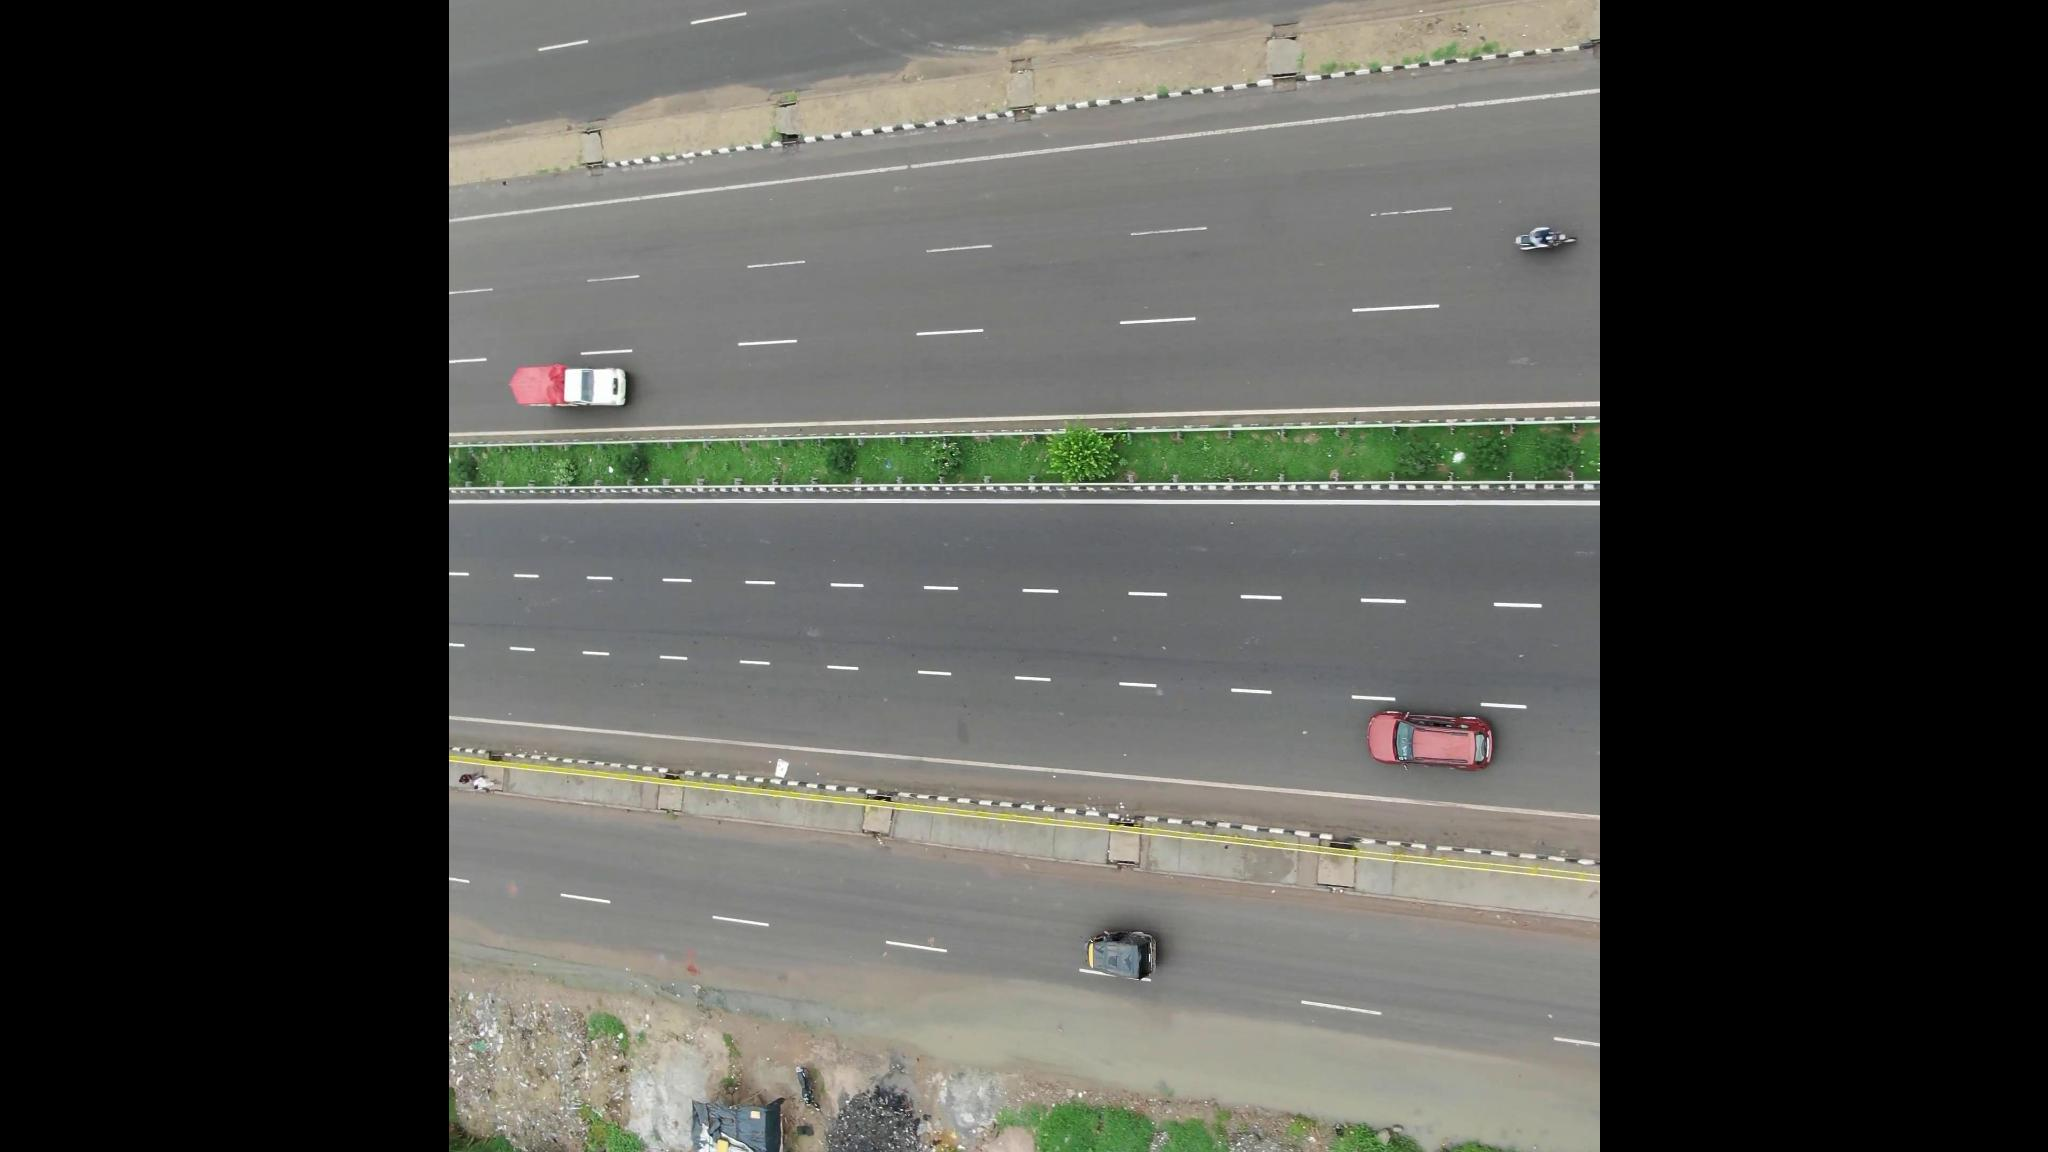Waterlogging: (774, 956, 1212, 1117), (1229, 1016, 1577, 1152)
